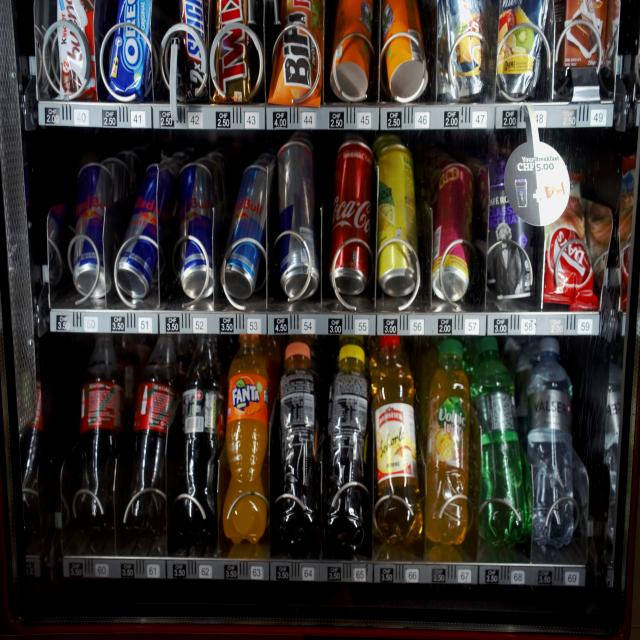7days_croissantschoko_packung_80_1_0000000000003: (542, 162, 598, 310)
bifi_roll__50__4251097402635: (268, 0, 322, 102)
bueno___43__4008400320328: (54, 0, 96, 100)
c-swiss_dosenabisicetea__33__9120025930135: (329, 0, 377, 100), (384, 0, 430, 104)
caferoyal_classicmacchiato__33__7617014164487: (487, 156, 536, 299)
caprisun_multivitamin__20__4000177605004: (439, 0, 491, 100), (496, 0, 548, 98)
coke__dose_33__54491472: (332, 134, 371, 283)
coke__flasche_50__54491472: (124, 336, 179, 527), (73, 334, 127, 526)
coke_zero_flasche_50__5449000131836: (176, 336, 225, 536)
comella_schokodrink__33__7613100037253: (558, 0, 610, 77)
fanta___50__40822938: (219, 330, 273, 542)
fuse_lemon__50__5449000235947: (322, 345, 370, 548)
fuse_lemon_dose_33__5449000235947: (377, 141, 418, 298)
fuse_peach__50__5449000236623: (278, 342, 322, 544)
oreo___66__84100733: (107, 0, 150, 102)
ramseier_schorle__50__7610057012456: (373, 336, 415, 542)
redbull___33__90162909: (273, 141, 322, 312), (174, 161, 220, 300), (123, 167, 170, 303), (73, 165, 112, 299)
redbull_light__33__90162800: (225, 166, 267, 303)
snickers___50__5000159461122: (178, 0, 208, 99)
tiki_himbeerbrause_dose_33_1_: (434, 165, 476, 299)
twix___50__5000159459228: (214, 0, 250, 103)
valser_classic__50__76404160: (480, 340, 521, 540)
valser_still__50__7610335002575: (527, 341, 576, 545)
volvic_pinapple__50__305764335648: (427, 341, 467, 540)
